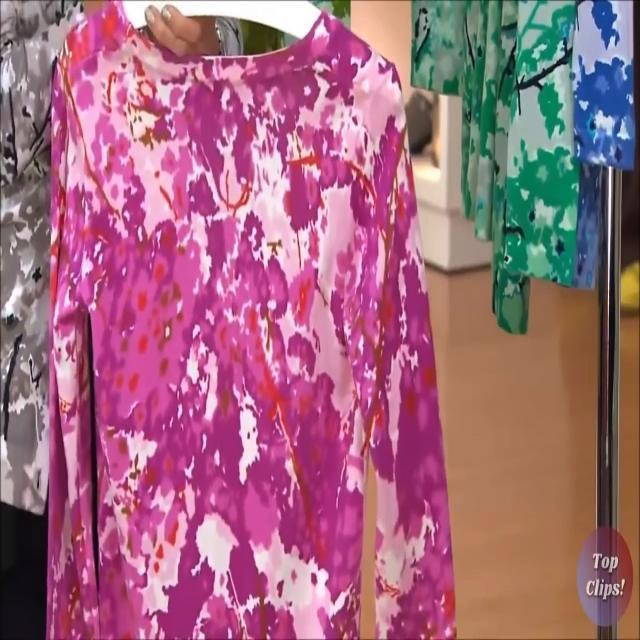person: (0, 0, 267, 640)
